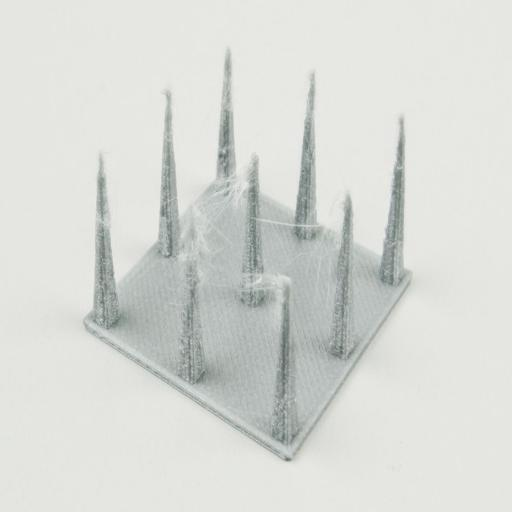stringing: (191, 174, 243, 304), (301, 177, 343, 312), (248, 264, 282, 304)
